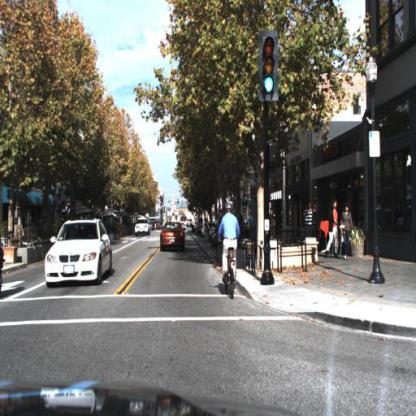biker: (219, 200, 242, 305)
car: (46, 216, 114, 289), (159, 220, 188, 256), (133, 217, 150, 238)
pedestrian: (340, 202, 356, 262), (328, 199, 342, 260), (303, 200, 315, 247)
trafficLight: (258, 29, 279, 100)
